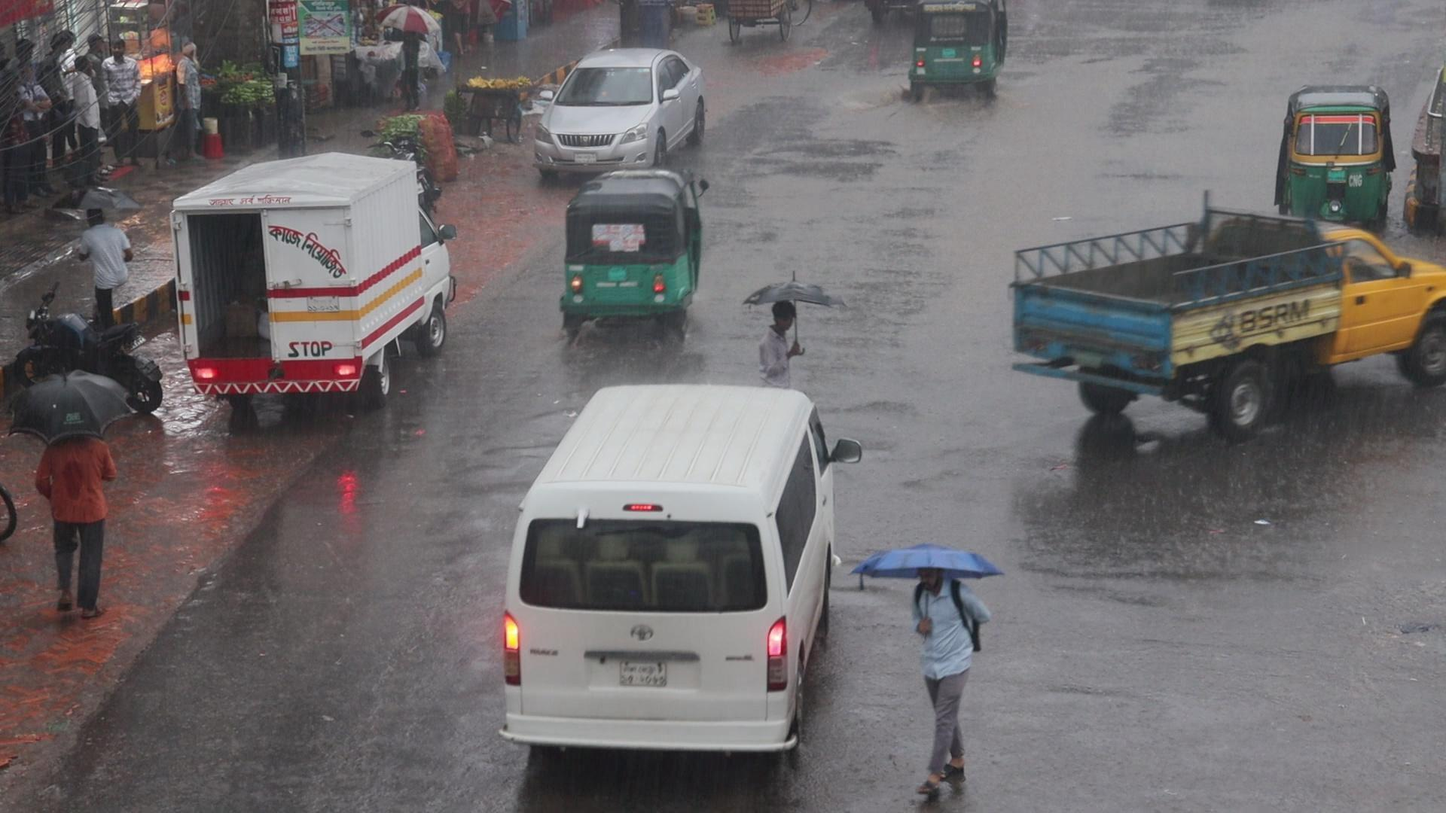Car: (499, 381, 865, 761), (535, 46, 707, 164)
Truck: (1005, 189, 1446, 444)
